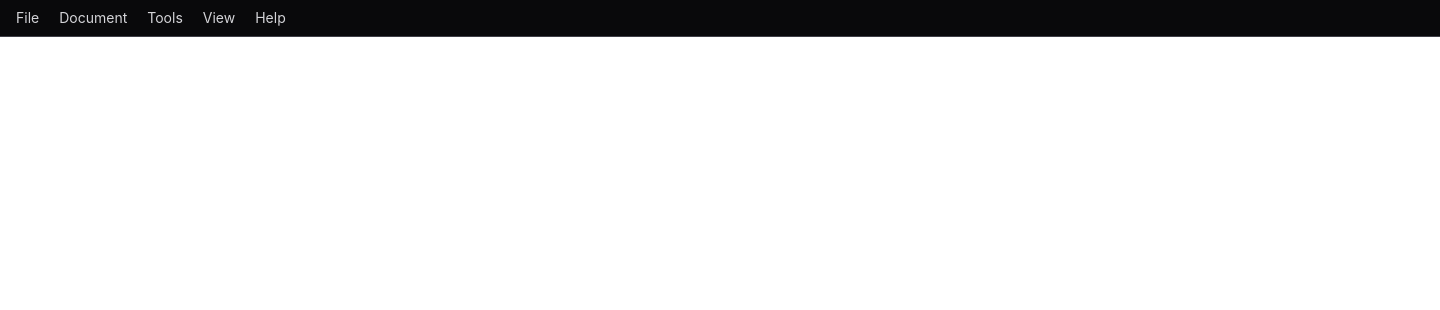
Test: MenuBar › shows only Single page in the View menu when in two-page spread mode
What coordinates should you click on to do the following:
click the button with test id "menu-view"
I would click on:
 (219, 18)
Its box is x1=195 y1=4 x2=243 y2=32.
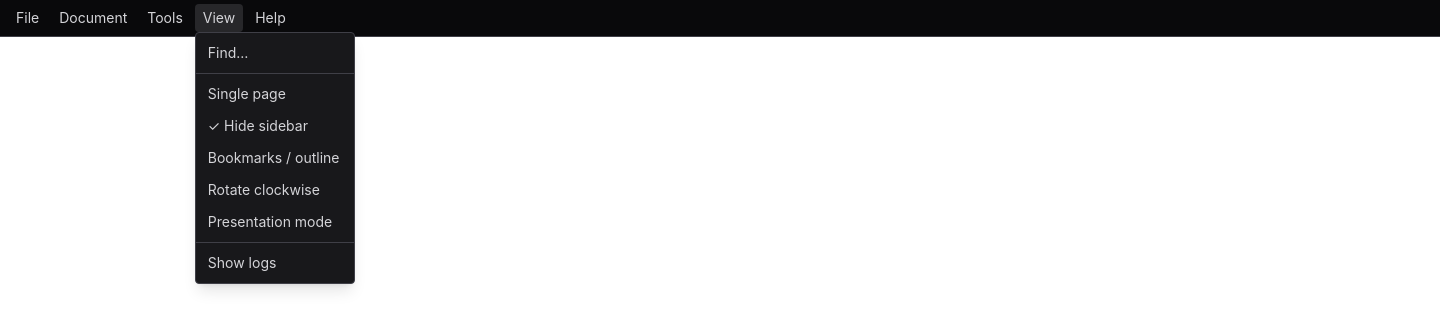
Check: the button "Single page" is shown, box x1=196 y1=78 x2=354 y2=110
